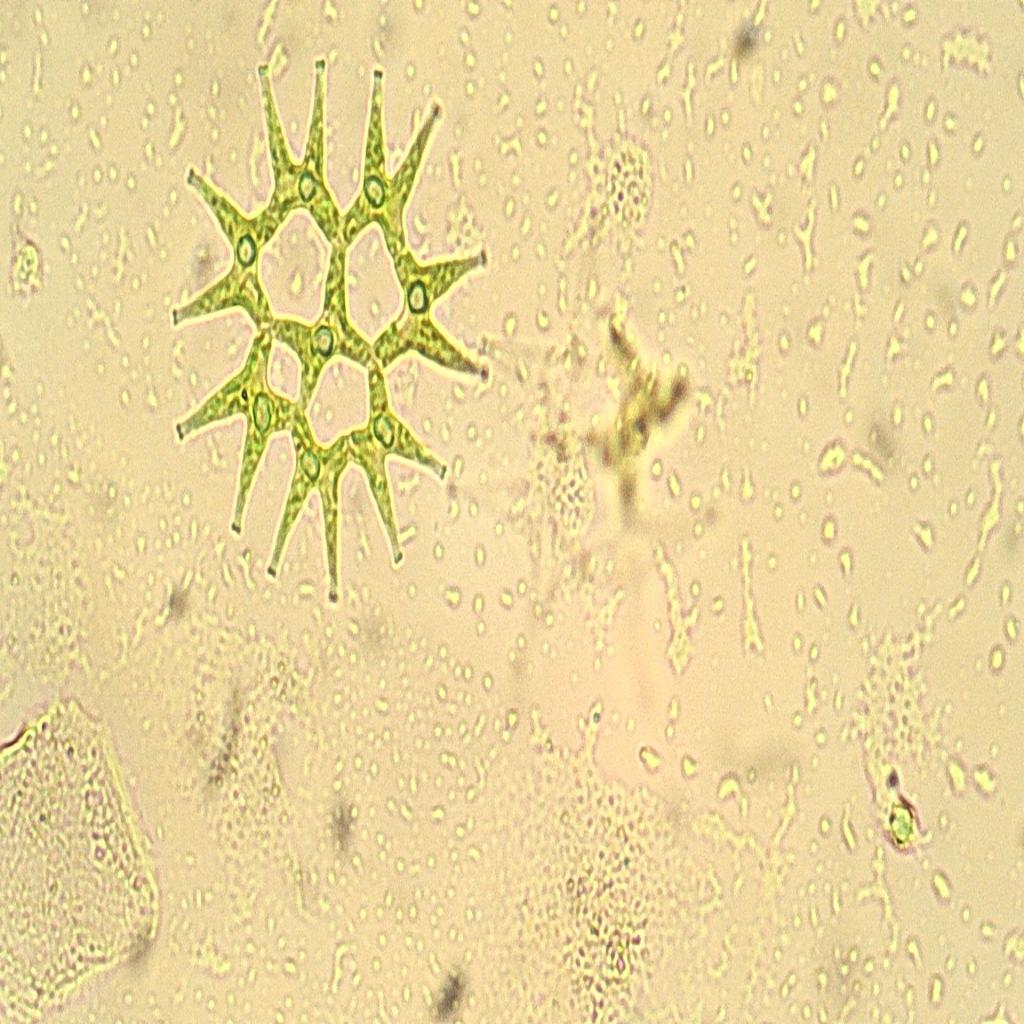Pediastrum_CTH: (156, 44, 503, 621)
